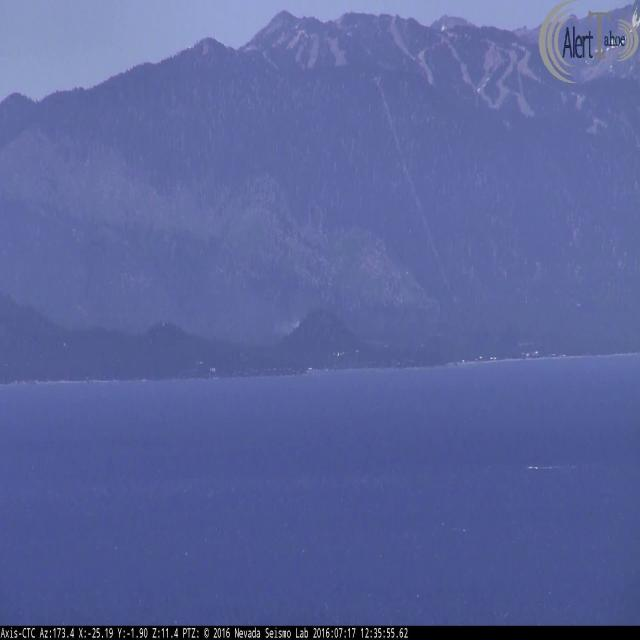smoke: (269, 310, 302, 343)
